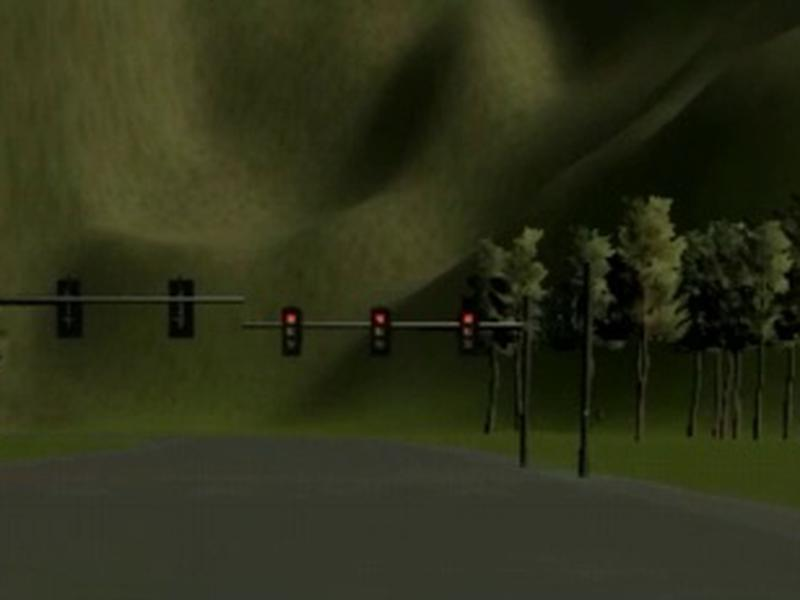Red: (457, 306, 478, 355), (282, 306, 302, 357), (370, 306, 390, 355)
